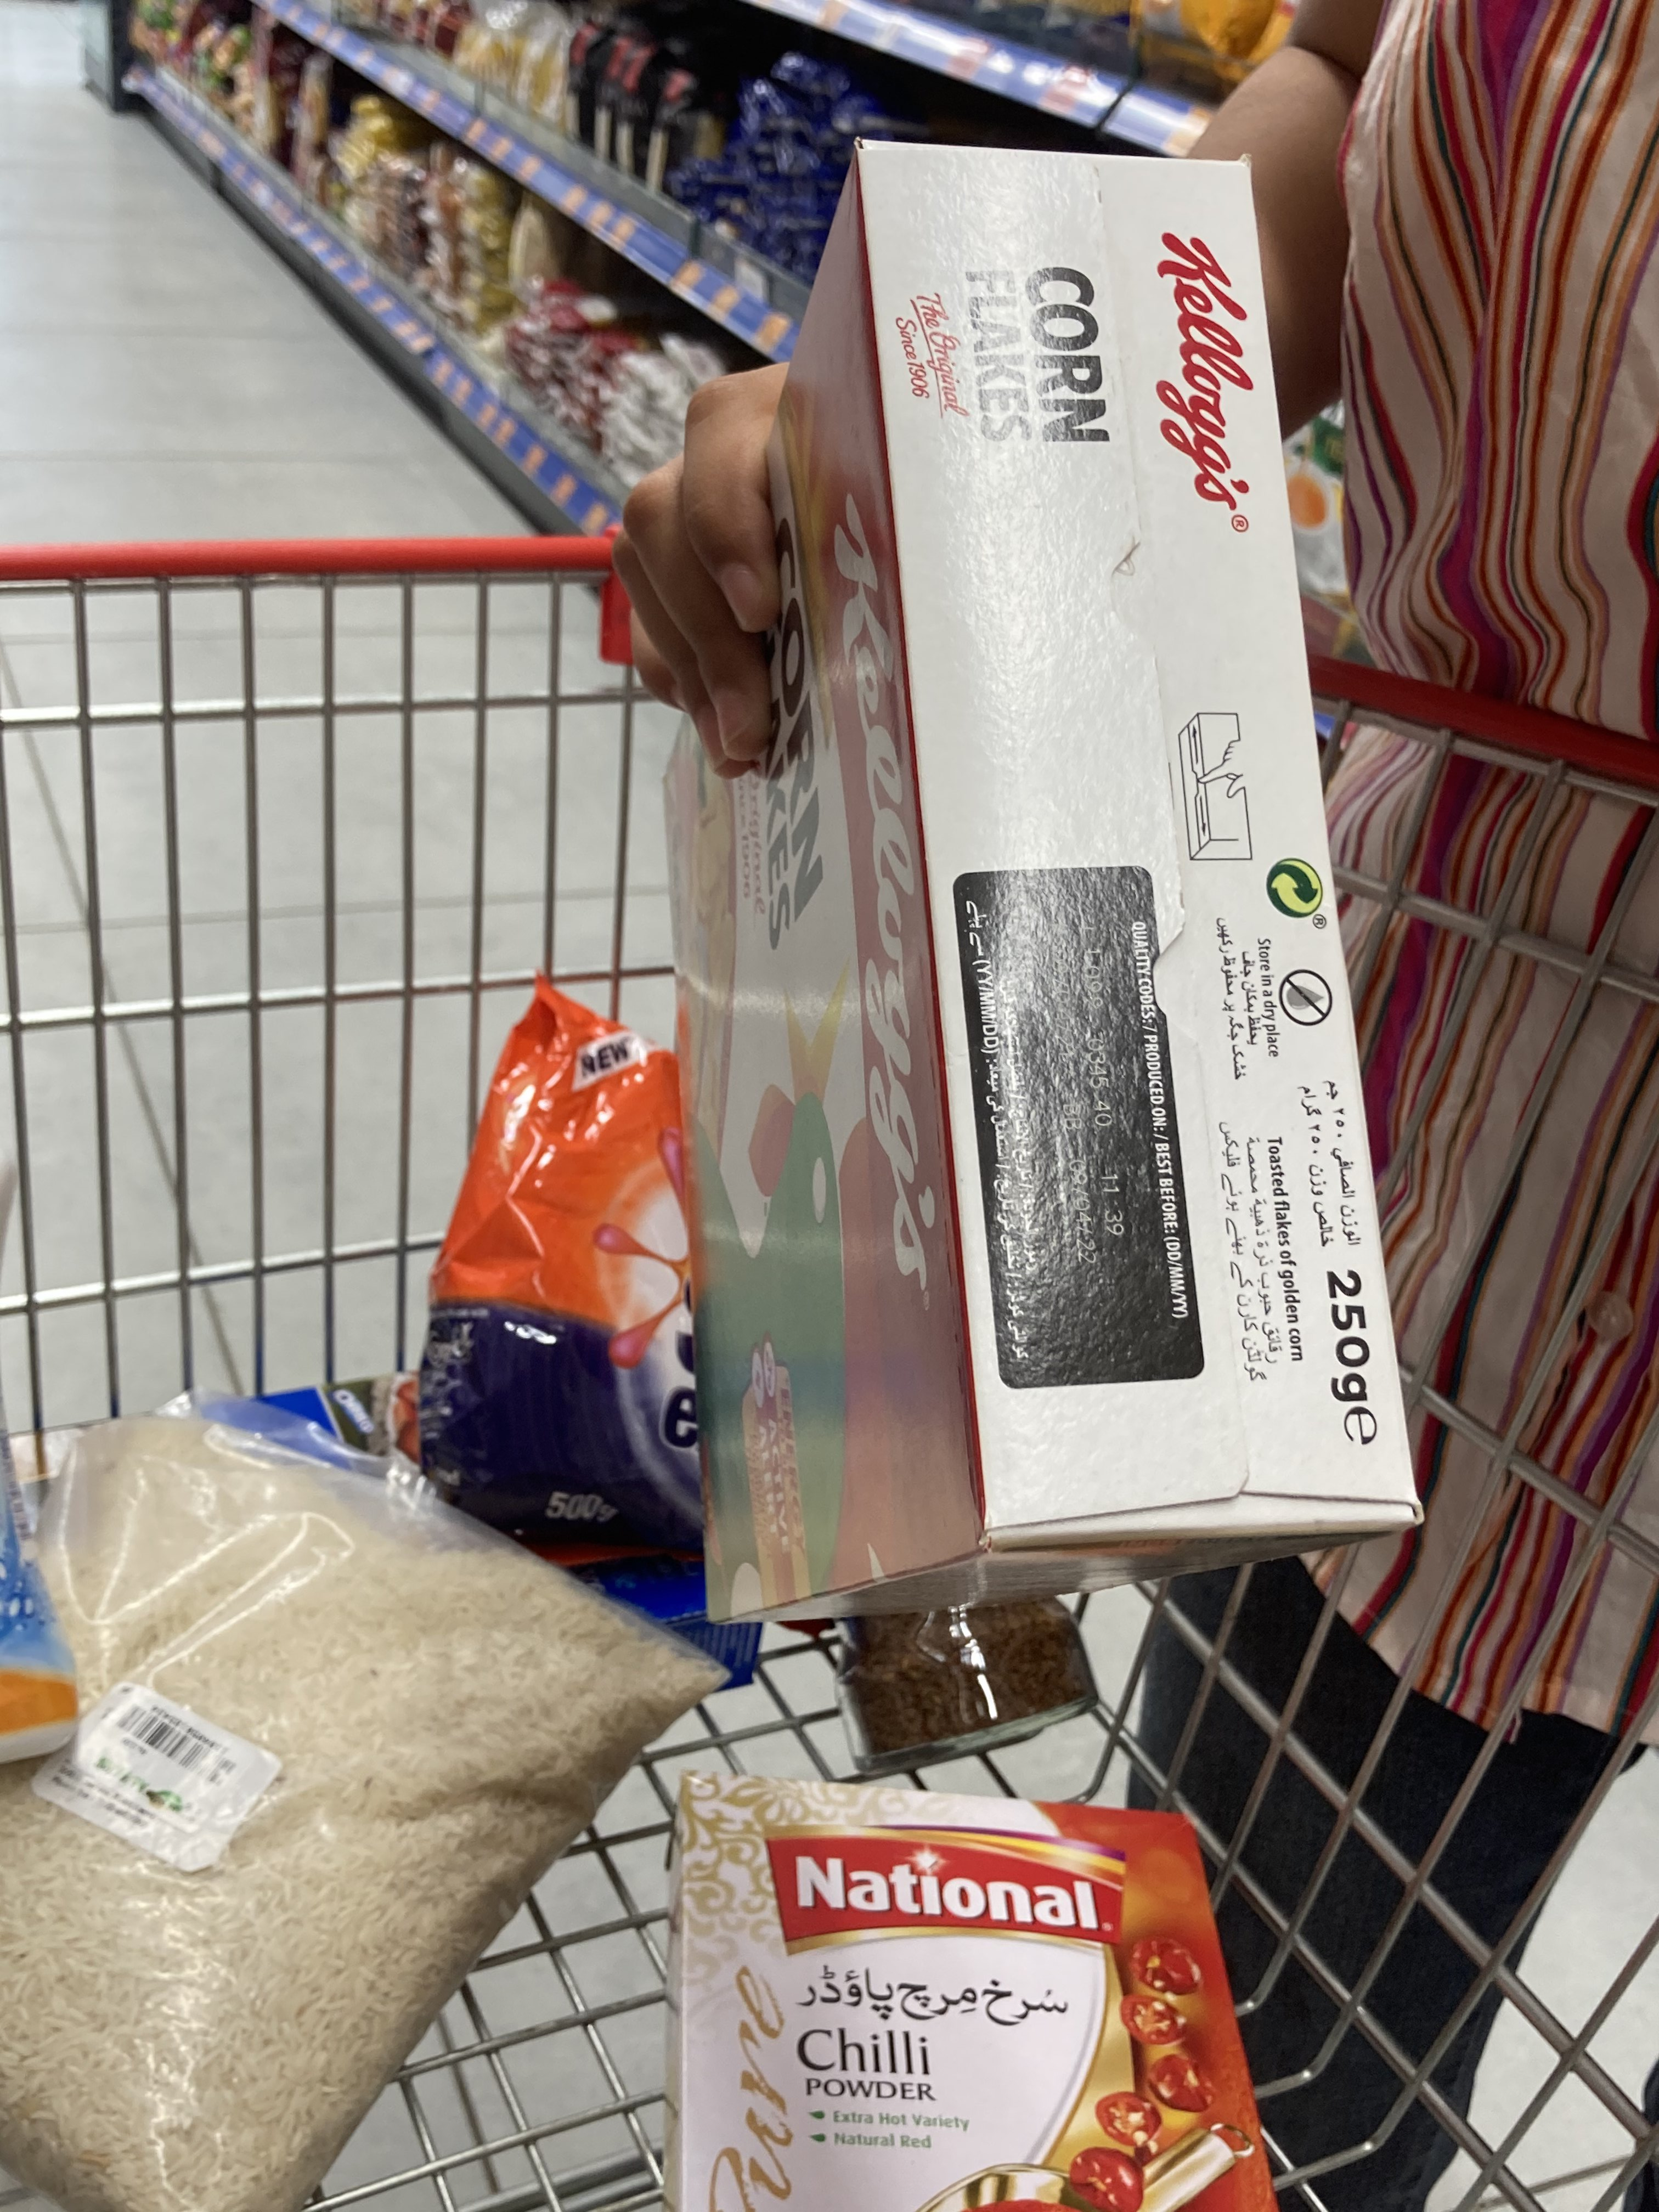Kellogg's Corn Flakes: (657, 139, 1424, 1616)
